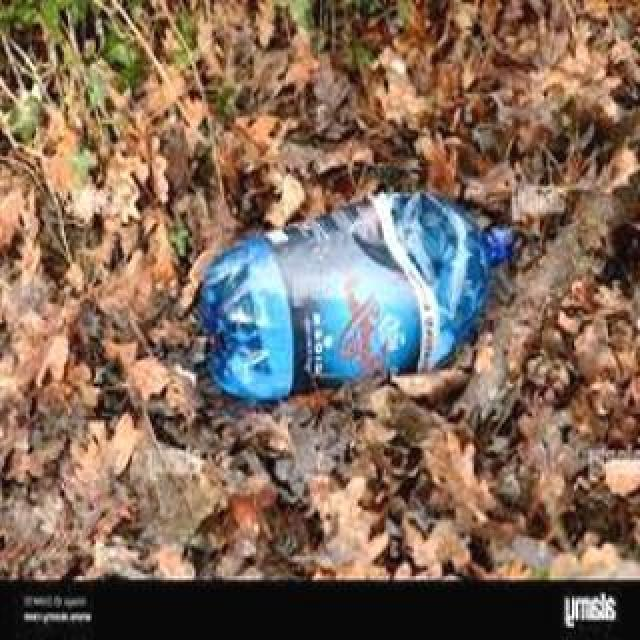Pet_Bottle: (194, 199, 524, 407)
